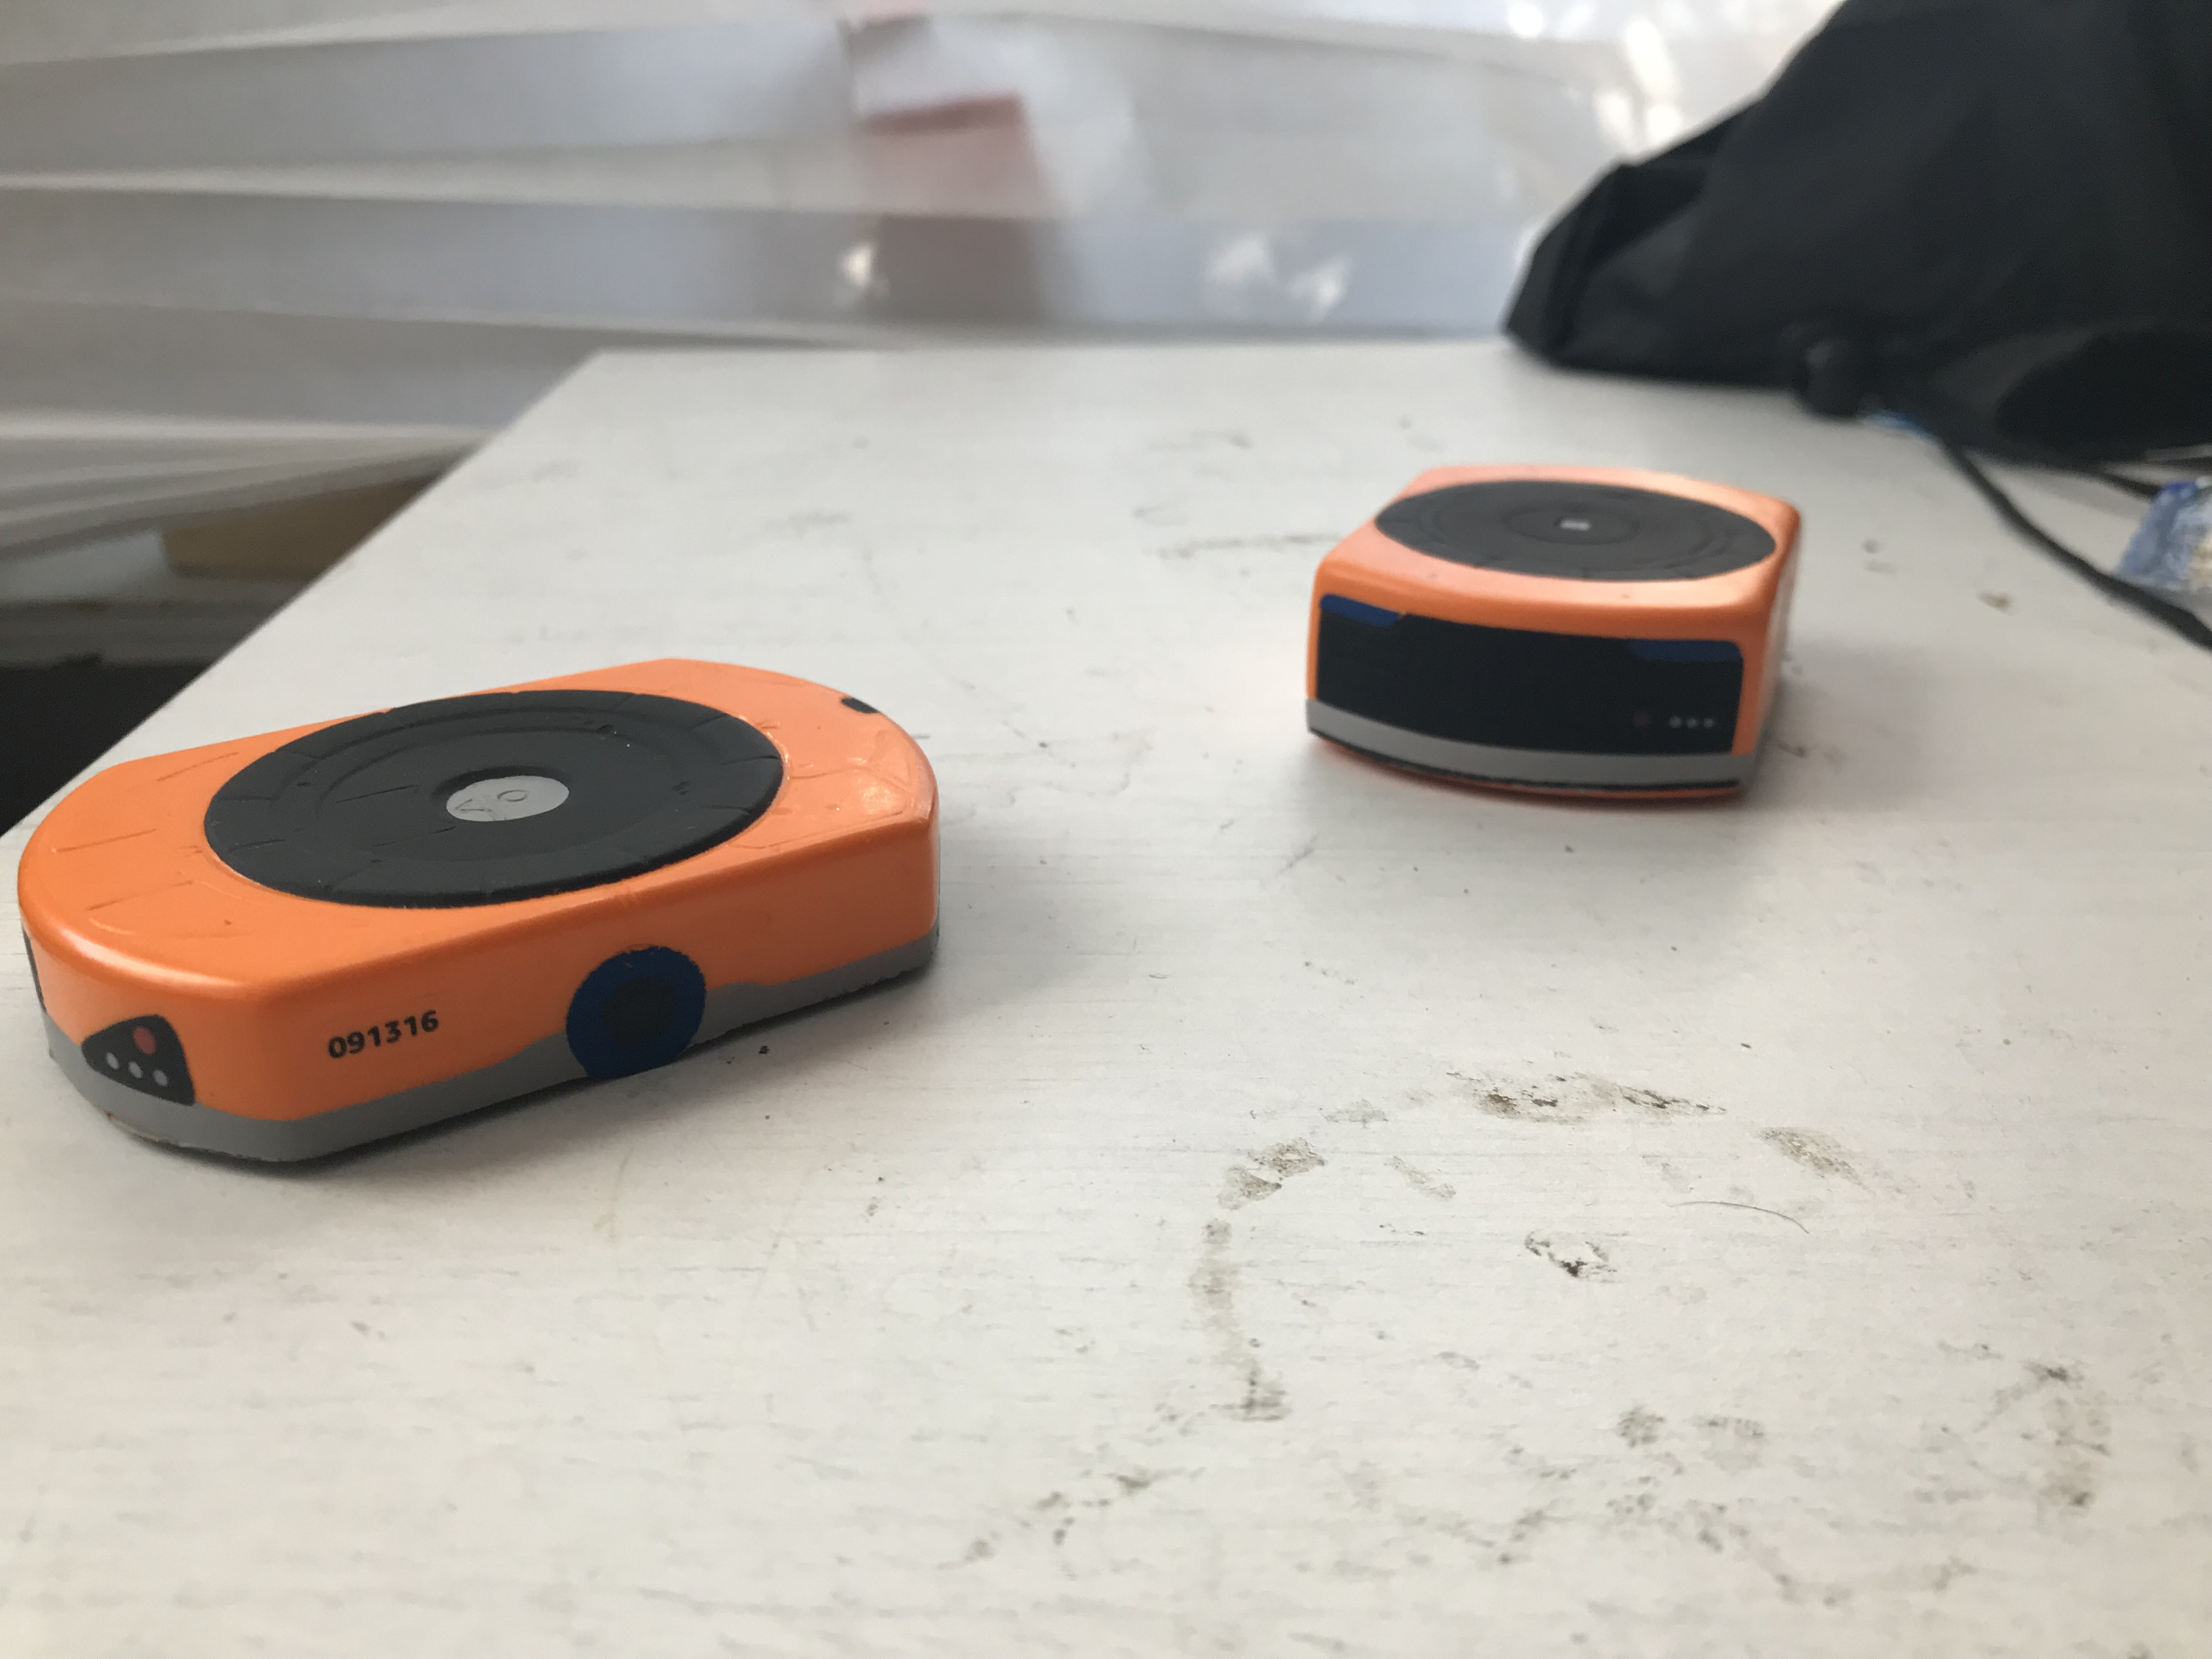amazon_bot: (3, 638, 993, 1183), (1259, 410, 1886, 866)
